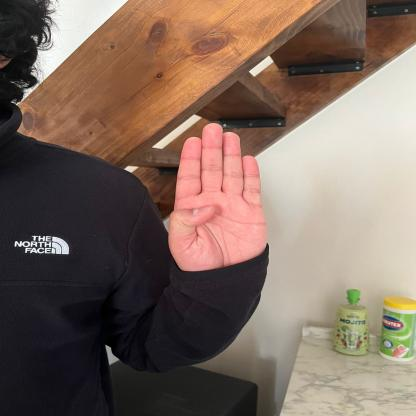B: (166, 119, 270, 282)
